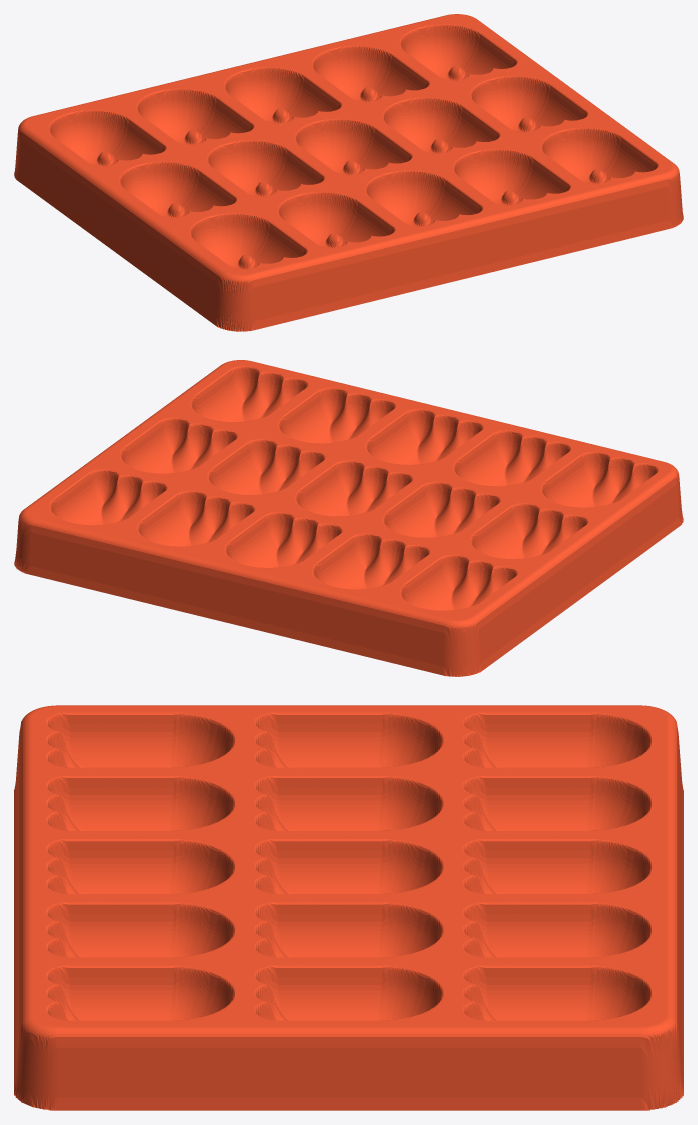
Rendered from mold.glb.
The picture shows the model from 3 angles, top to bottom: view 1: azimuth 30°, elevation 25°; view 2: azimuth 150°, elevation 25°; view 3: azimuth 270°, elevation 25°; orthographic projection. The views are drawn at different scales.
Parts seen in each view (by area): view 1: geometry_0; view 2: geometry_0; view 3: geometry_0.
Part boxes in pixels (left/top/right/bottom): geometry_0: left=14, top=14, right=683, bottom=331; geometry_0: left=14, top=360, right=683, bottom=676; geometry_0: left=14, top=705, right=683, bottom=1110.
Bounding box in the file's own units: 0.1647 × 0.0175 × 0.1392.
